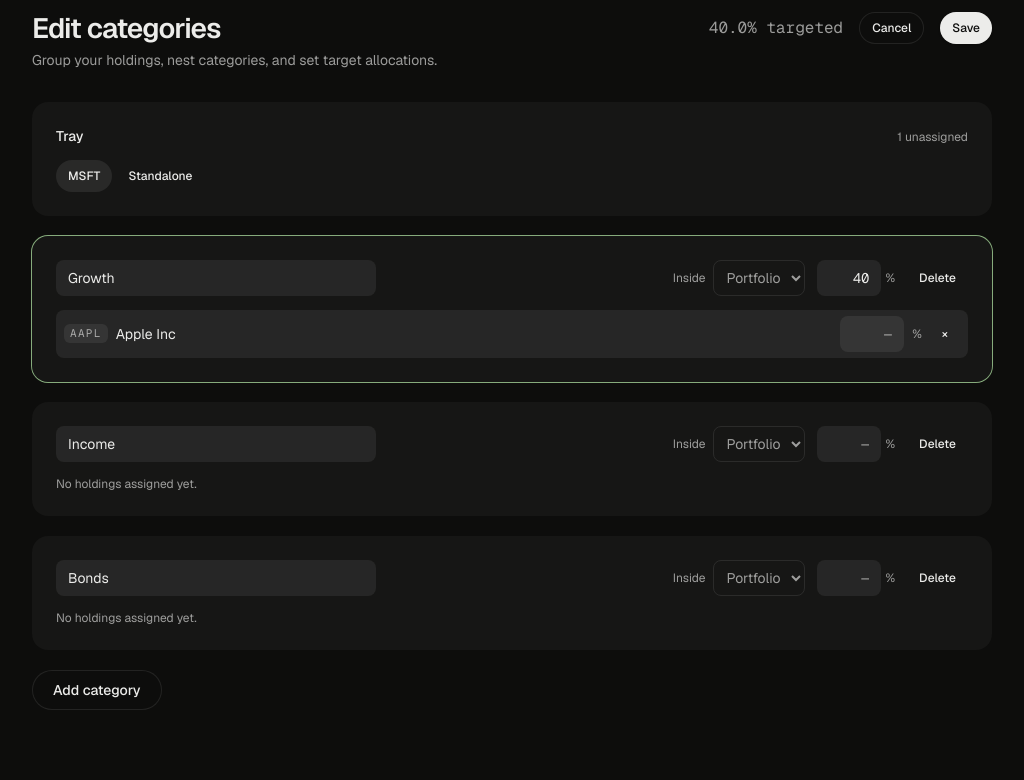
Test: CategoriesEditor — selection follows deletes › clears the selection when the selected category itself is deleted
This screenshot has width=1024, height=780.
Click the button showing "Bonds" at [689, 578], box top-left (32, 536), bottom-right (992, 650)
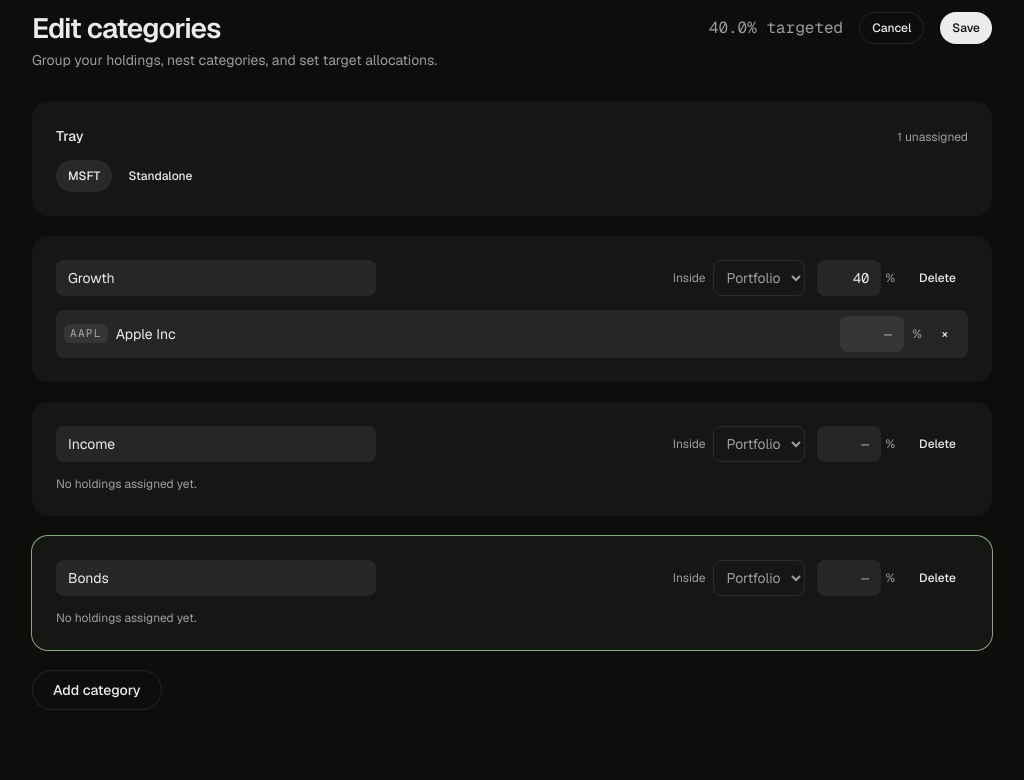
Click the button with aria-label "Delete Bonds" at [938, 578], box top-left (907, 562), bottom-right (968, 594)
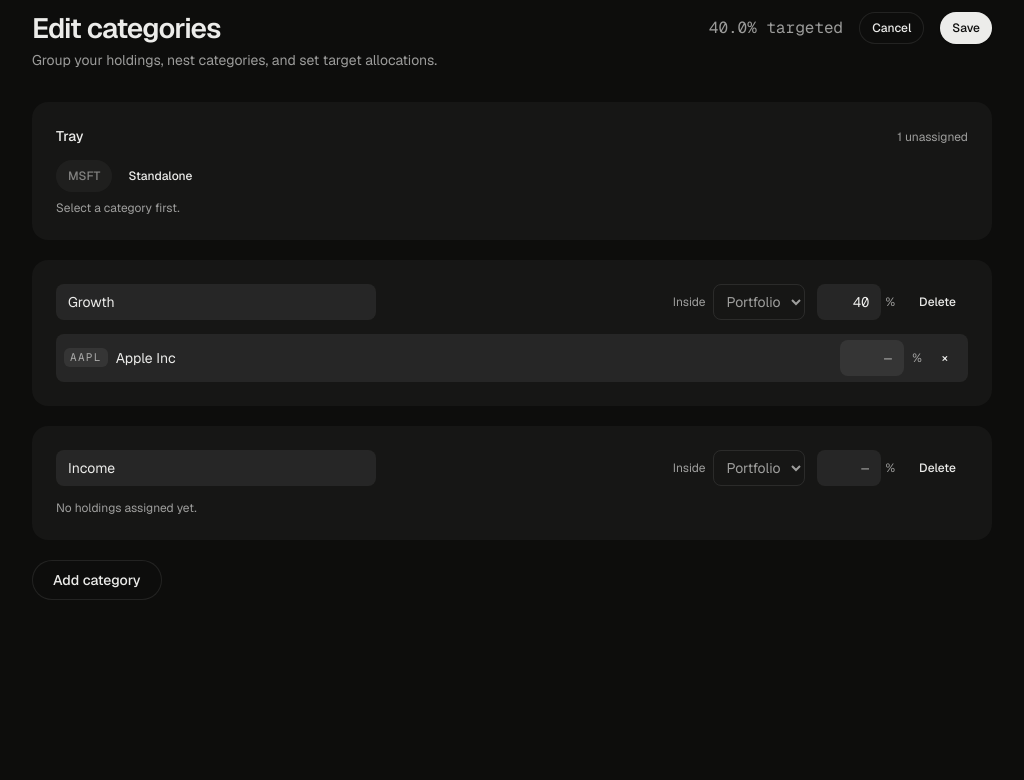
Result: the button with aria-label "assign MSFT" is disabled at top-left (56, 160), bottom-right (112, 192)
Result: the text "Select a category first." is shown at top-left (56, 200), bottom-right (180, 216)
